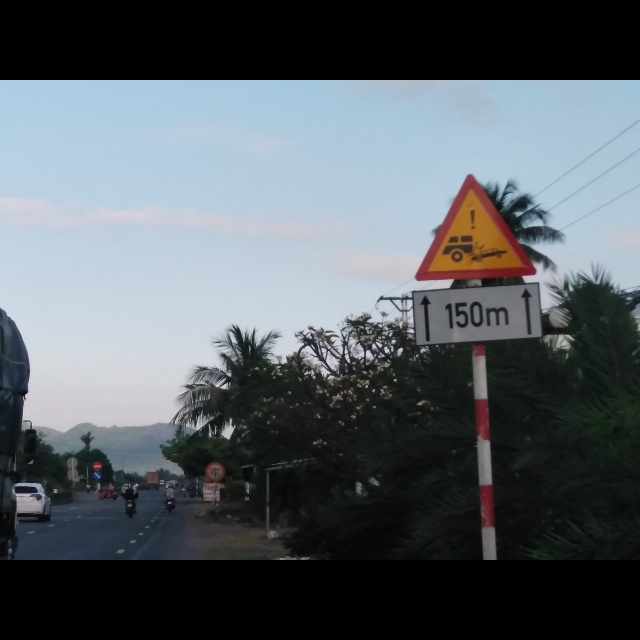Đoạn đường hay xảy ra tai nạn: (411, 172, 541, 281)
